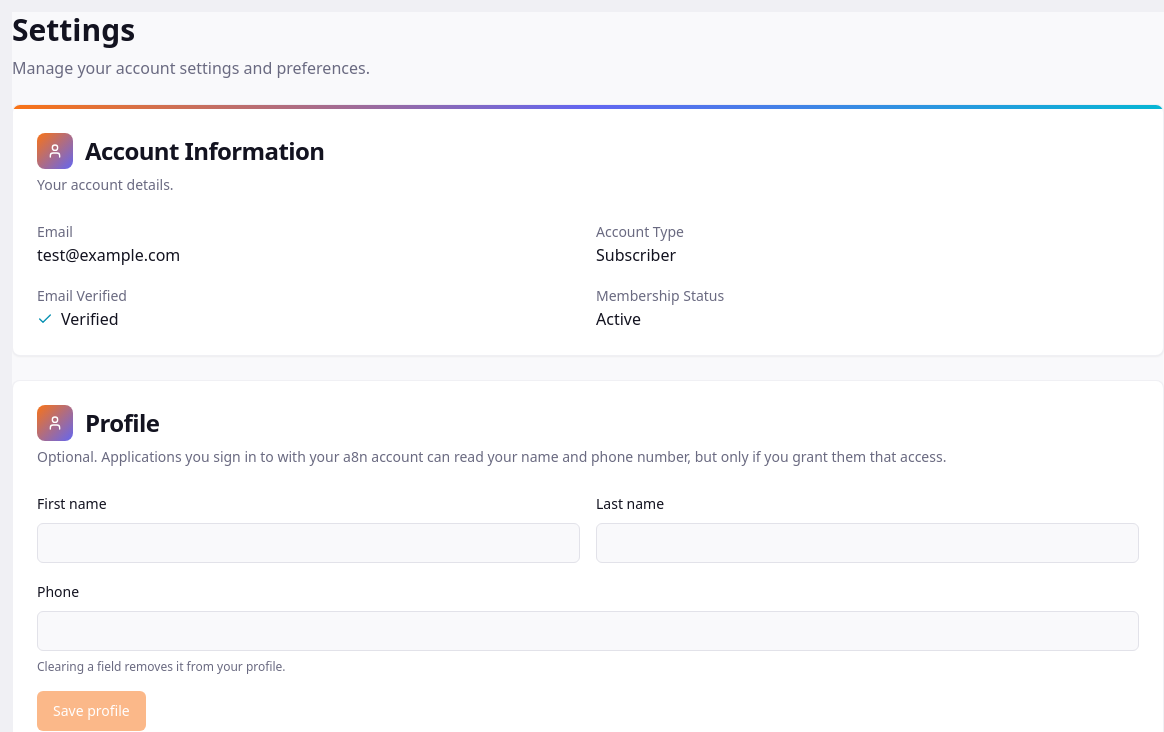
Test: SettingsPage profile form › saves trimmed values and puts them in the auth store
The width and height of the screenshot is (1164, 732).
Type "  Ada  " into the field labelled "First name" at point(308, 543), box top-left (37, 523), bottom-right (580, 563)
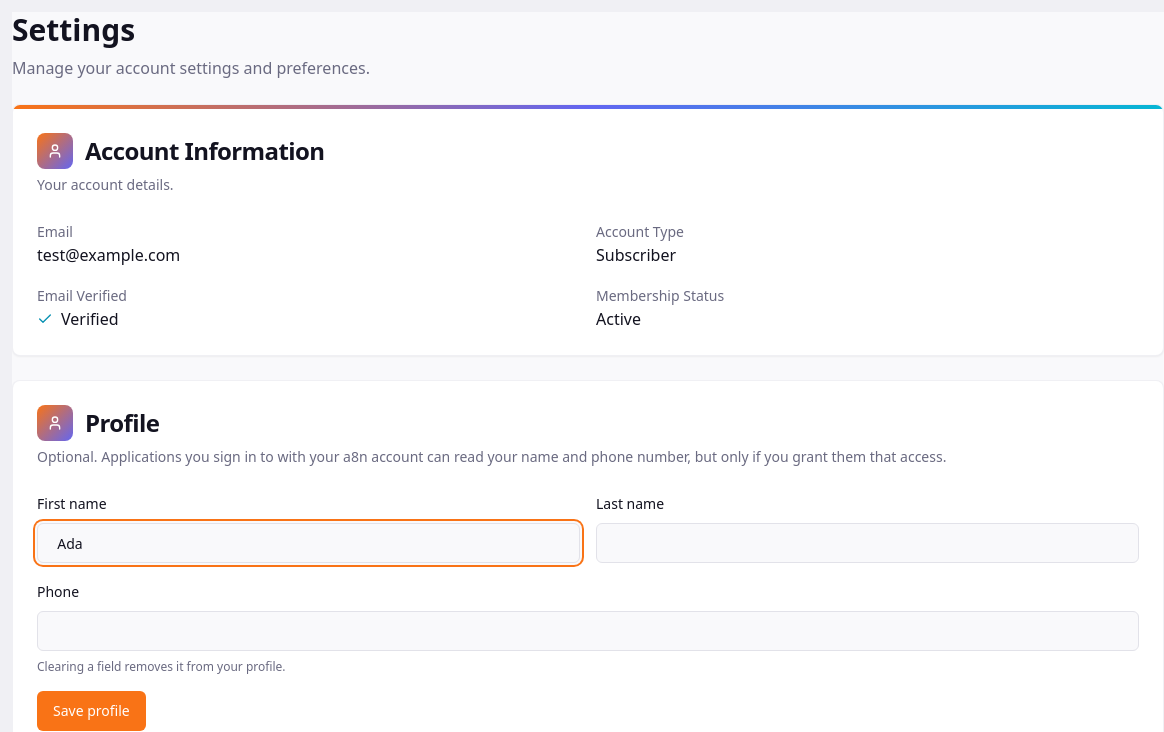
Click the button "Save profile" at point(91, 711), box top-left (37, 691), bottom-right (146, 731)
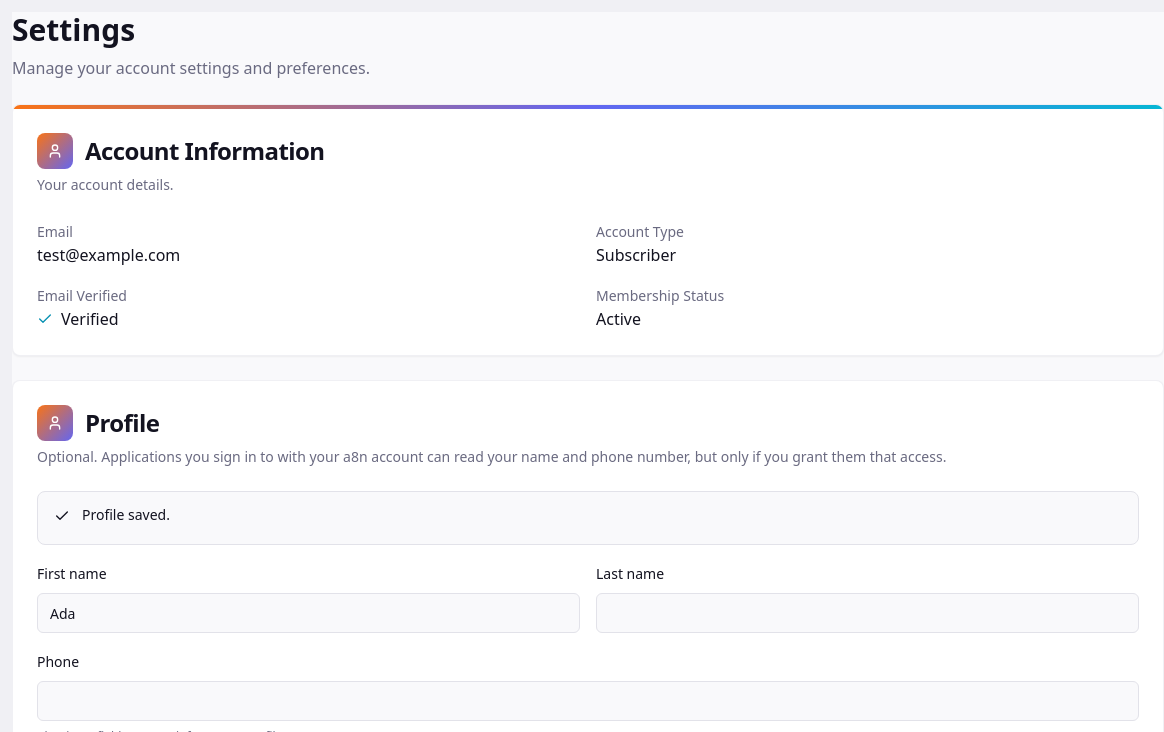
Check: the text "Profile saved." is shown, box top-left (82, 505), bottom-right (170, 524)
